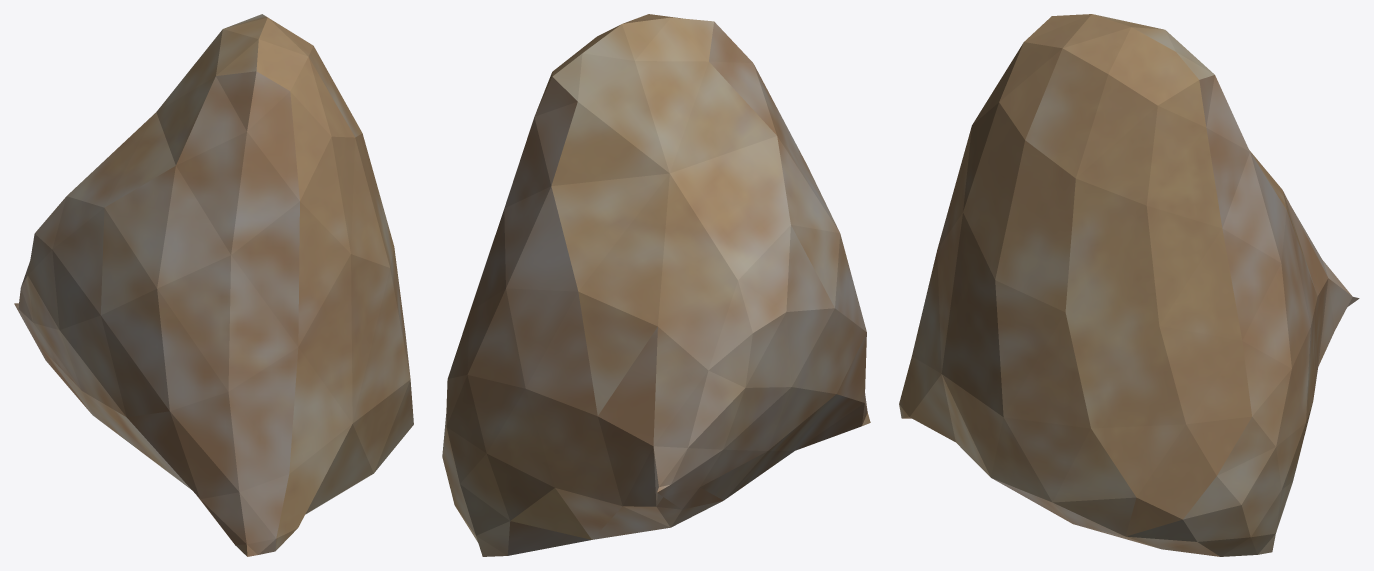
Rendered from PedraAltaHP.fbx.
3 renders of one model, left to right at view 1: azimuth 30°, elevation 25°; view 2: azimuth 150°, elevation 25°; view 3: azimuth 270°, elevation 25°, orthographic. The views are drawn at different scales.
Visible parts, largest first — view 1: PedraAlta; view 2: PedraAlta; view 3: PedraAlta.
Part boxes in pixels (x1=…): PedraAlta: x1=14, y1=14, x2=413, y2=556; PedraAlta: x1=442, y1=14, x2=870, y2=556; PedraAlta: x1=899, y1=14, x2=1359, y2=556.
Size of the model in its own units: 144 by 206 by 174.
